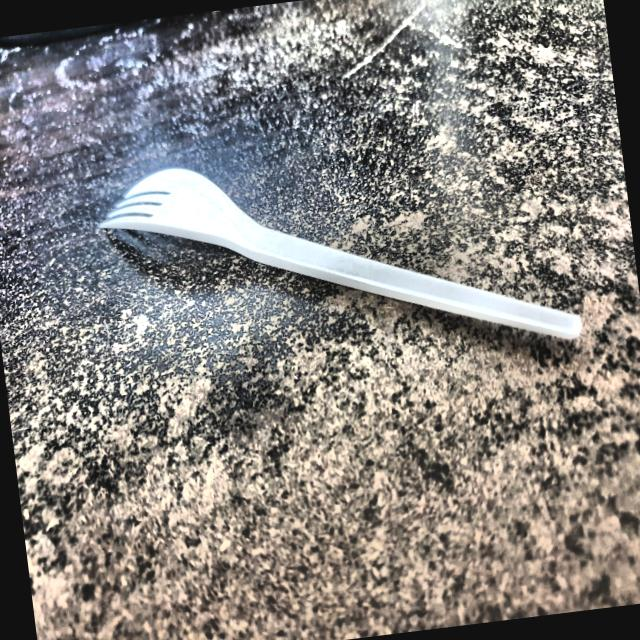plastic utensil: (97, 119, 588, 398)
